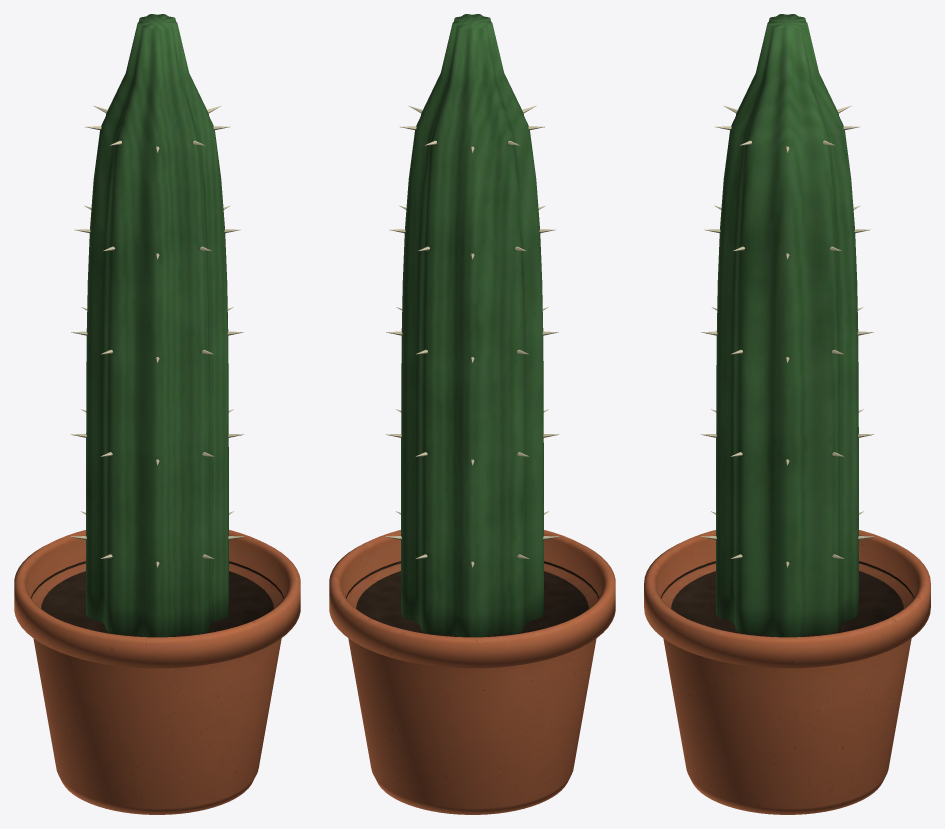
The model's file is column-cactus.glb.
The picture shows the model from 3 angles, left to right: view 1: azimuth 30°, elevation 25°; view 2: azimuth 150°, elevation 25°; view 3: azimuth 270°, elevation 25°; orthographic projection.
Parts seen in each view (by area): view 1: cactus_skin, terracotta, soil, spine; view 2: cactus_skin, terracotta, soil, spine; view 3: cactus_skin, terracotta, soil, spine.
Boxes of the visible parts, x1=… form: cactus_skin: x1=86, y1=14, x2=228, y2=637; terracotta: x1=14, y1=530, x2=300, y2=814; soil: x1=31, y1=561, x2=283, y2=636; spine: x1=70, y1=105, x2=244, y2=567; cactus_skin: x1=401, y1=14, x2=543, y2=637; terracotta: x1=329, y1=530, x2=615, y2=814; soil: x1=346, y1=561, x2=598, y2=636; spine: x1=385, y1=105, x2=559, y2=567; cactus_skin: x1=716, y1=14, x2=858, y2=637; terracotta: x1=644, y1=530, x2=930, y2=814; soil: x1=661, y1=561, x2=913, y2=636; spine: x1=700, y1=105, x2=874, y2=567.
Size of the model in its own units: 0.1908 by 0.5518 by 0.1908.
Materials: 4 (4 with a texture image).
